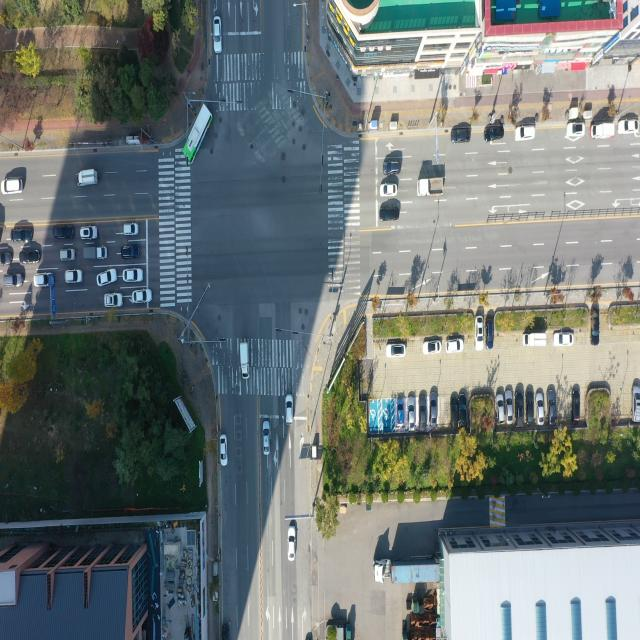car: (286, 520, 297, 560), (629, 384, 640, 424), (2, 177, 24, 196), (514, 389, 525, 427), (524, 331, 547, 348), (11, 227, 32, 245), (565, 120, 586, 138), (570, 387, 580, 424), (213, 15, 222, 55), (458, 394, 468, 430), (384, 344, 408, 359), (552, 331, 574, 347), (547, 387, 556, 426), (218, 433, 228, 468), (590, 312, 600, 347), (525, 387, 534, 425), (33, 272, 54, 288), (514, 125, 535, 141), (263, 421, 272, 458), (429, 391, 438, 428), (449, 396, 459, 429), (536, 392, 545, 428), (407, 396, 416, 432), (79, 224, 98, 241), (98, 270, 117, 287), (380, 205, 399, 222), (55, 226, 75, 242), (284, 396, 294, 428), (474, 317, 484, 349), (484, 125, 504, 141), (418, 397, 427, 432), (396, 401, 406, 432), (19, 250, 41, 264), (618, 120, 640, 134), (132, 288, 152, 303), (125, 269, 143, 285), (452, 129, 471, 144), (382, 161, 402, 175), (104, 293, 122, 308), (422, 340, 440, 355), (445, 339, 464, 353), (486, 318, 494, 350), (122, 246, 140, 260), (496, 392, 504, 422), (505, 390, 512, 424), (4, 274, 22, 287), (124, 222, 139, 237), (65, 271, 82, 284), (60, 248, 76, 261), (380, 184, 397, 196), (0, 249, 13, 264)
large_bus: (183, 104, 216, 168)
large_truck: (372, 556, 441, 584)
small_truck: (418, 177, 447, 197), (240, 341, 252, 381), (76, 169, 98, 188), (592, 124, 614, 142), (83, 247, 108, 260)
